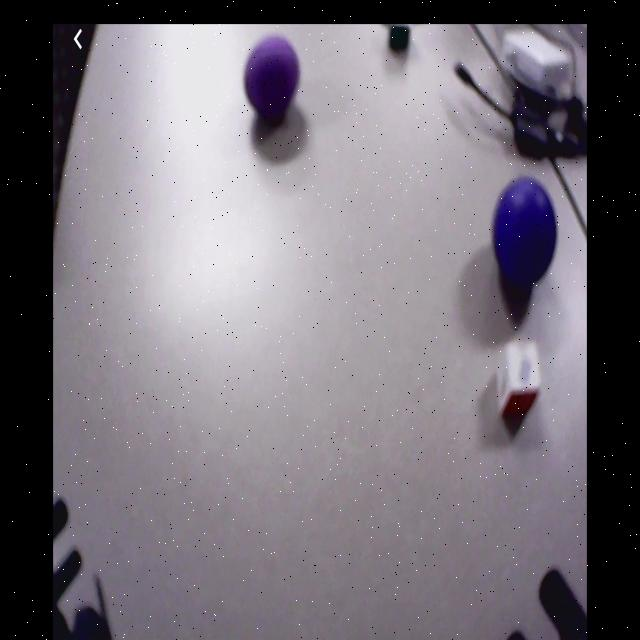ball: (492, 179, 558, 283), (245, 38, 300, 120)
